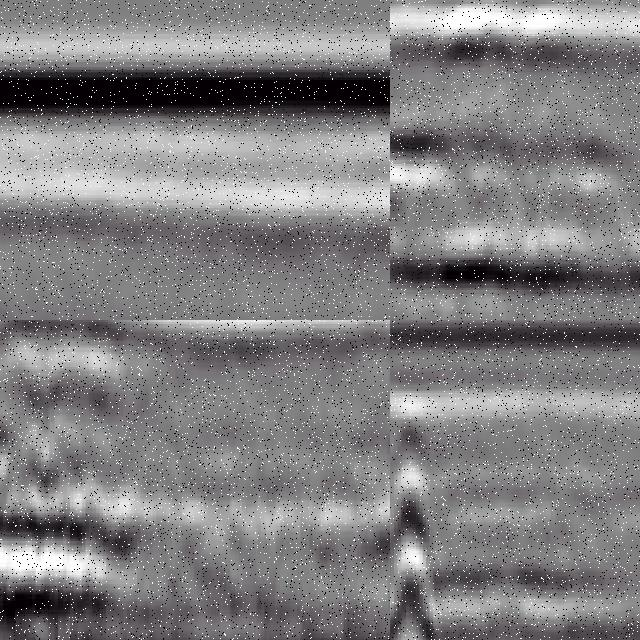crack: (391, 403, 438, 640)
loose: (1, 321, 150, 561), (391, 109, 544, 278)
